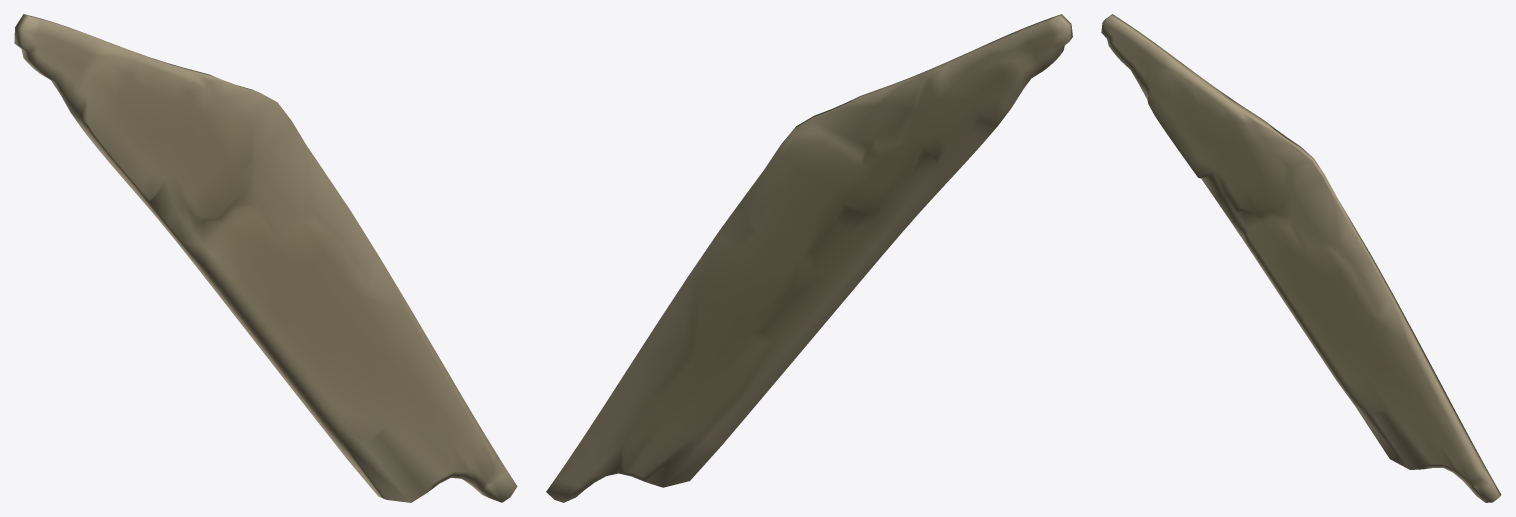
Rendered from microscopic-dust-particles-skin-flake_v3.glb.
3 renders of one model, left to right at view 1: azimuth 30°, elevation 25°; view 2: azimuth 150°, elevation 25°; view 3: azimuth 330°, elevation 25°, orthographic. The views are drawn at different scales.
Parts seen in each view (by area): view 1: Skin Flake_v3; view 2: Skin Flake_v3; view 3: Skin Flake_v3.
Boxes of the visible parts, bbox=[...] form: Skin Flake_v3: bbox=[14, 14, 517, 502]; Skin Flake_v3: bbox=[546, 14, 1072, 502]; Skin Flake_v3: bbox=[1101, 14, 1501, 502].
Bounding box in the file's own units: 0.4445 × 0.5 × 0.0854.
